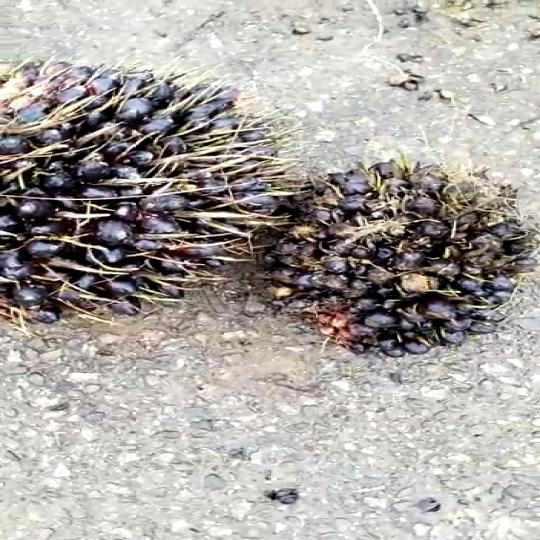mentah: (0, 55, 265, 327), (283, 129, 526, 357)
